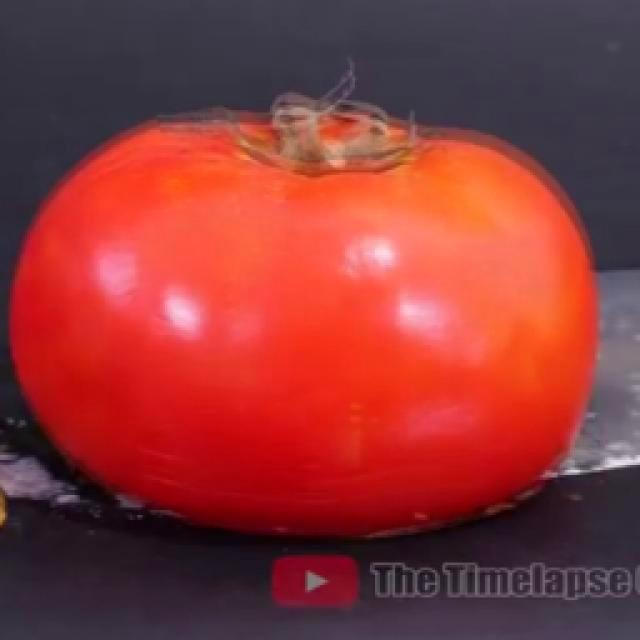tomato: (8, 92, 601, 543)
